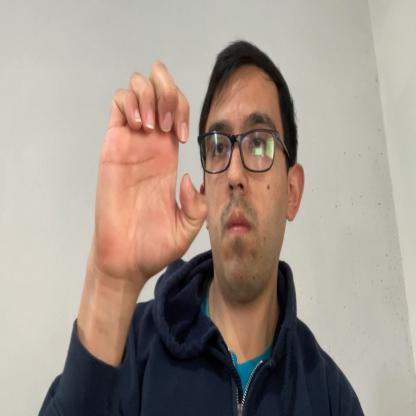E: (94, 59, 210, 284)
